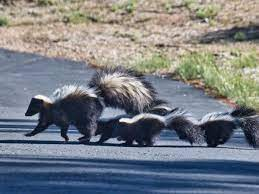skunk: (24, 68, 153, 150), (92, 111, 199, 148), (190, 104, 259, 149)
